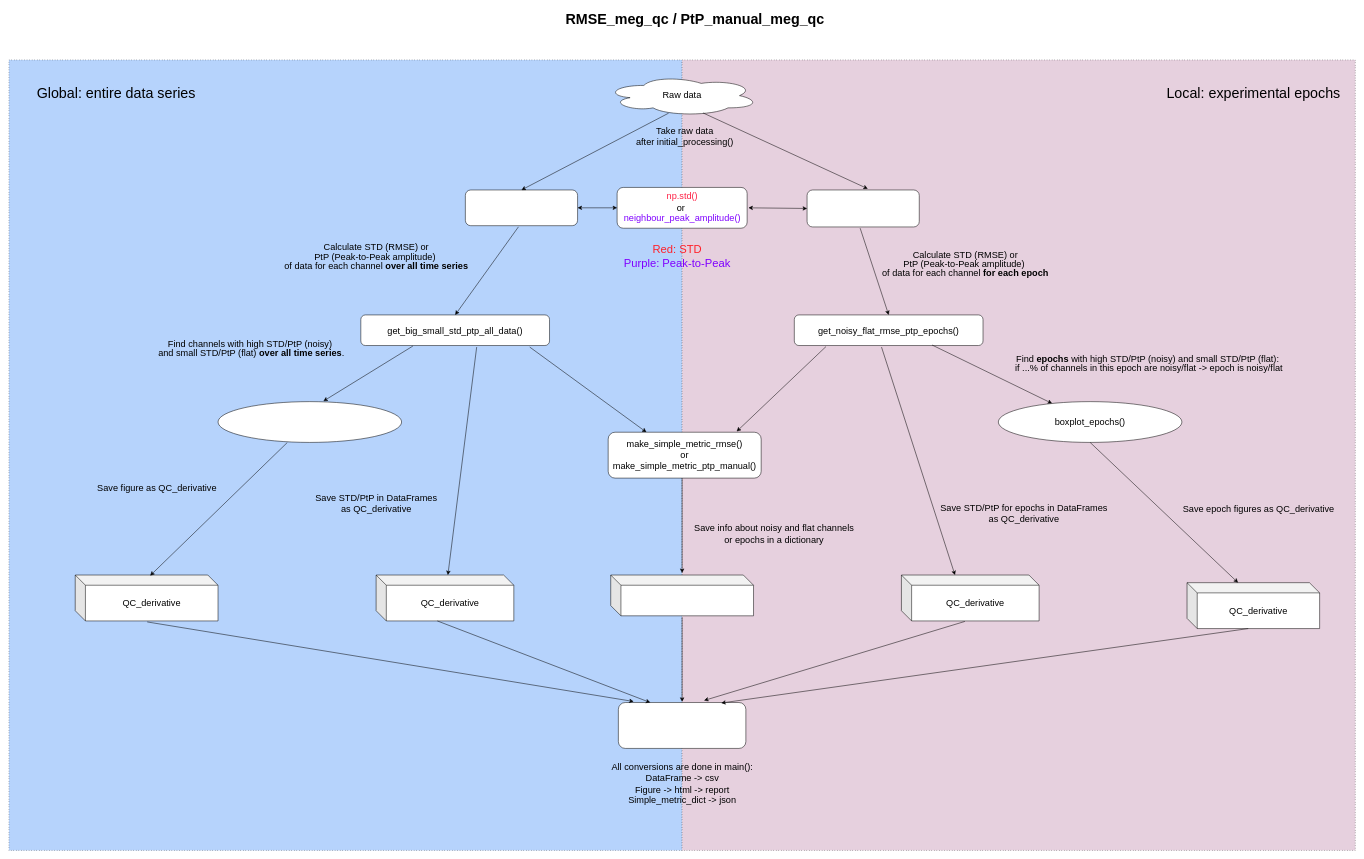
This 1364x859 diagram has some shape labels left out. The shapes that lost their labels are listed below. From the top down, each one's box as (x1, y1, x2, y2) in pixels, then its label:
(465, 189, 578, 226): get_rmse_all_data() or get_ptp_all_data()
(807, 189, 919, 227): get_std_epochs() or get_ptp_epochs()
(218, 401, 402, 442): boxplot_std_hovering_plotly()
(610, 575, 754, 616): simple_metric_dict
(618, 702, 746, 748): main()
